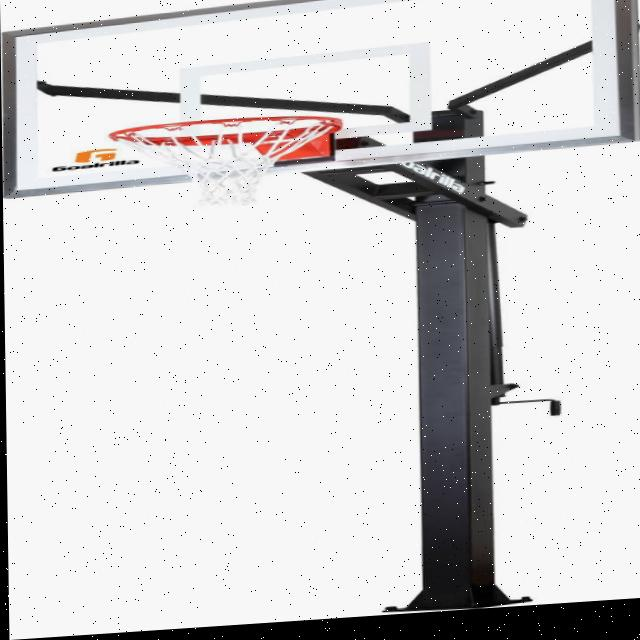hoop: (109, 111, 344, 212)
